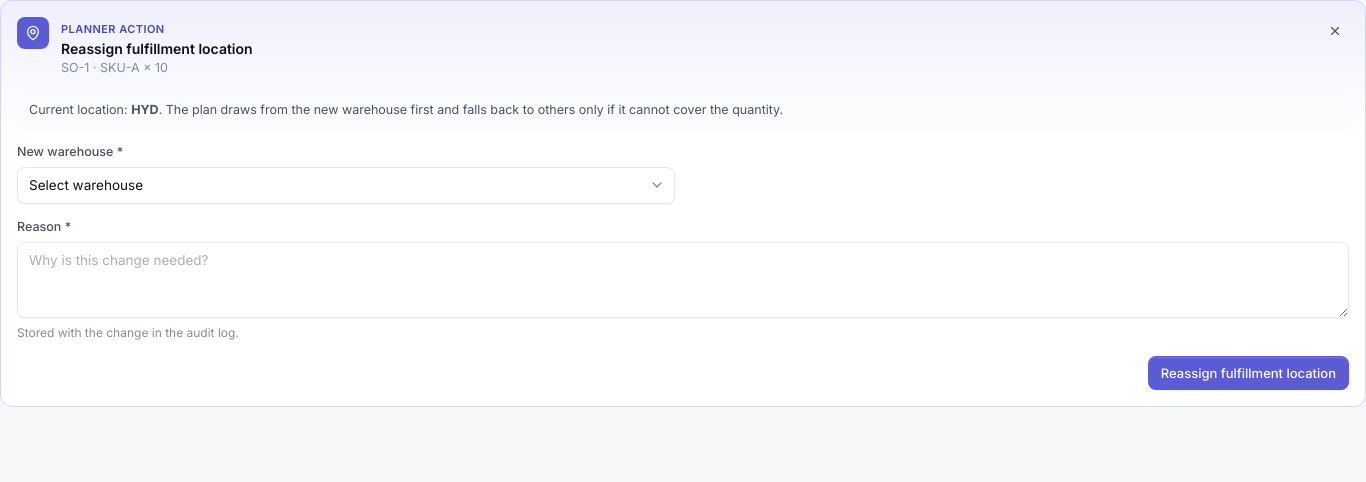
it: OrderPlannerPanel › requires a reason before sending a planner action
The width and height of the screenshot is (1366, 482).
Select "CHN — CHN warehouse" in the dropdown labelled "New warehouse *" at (346, 185), box [17, 167, 675, 204]
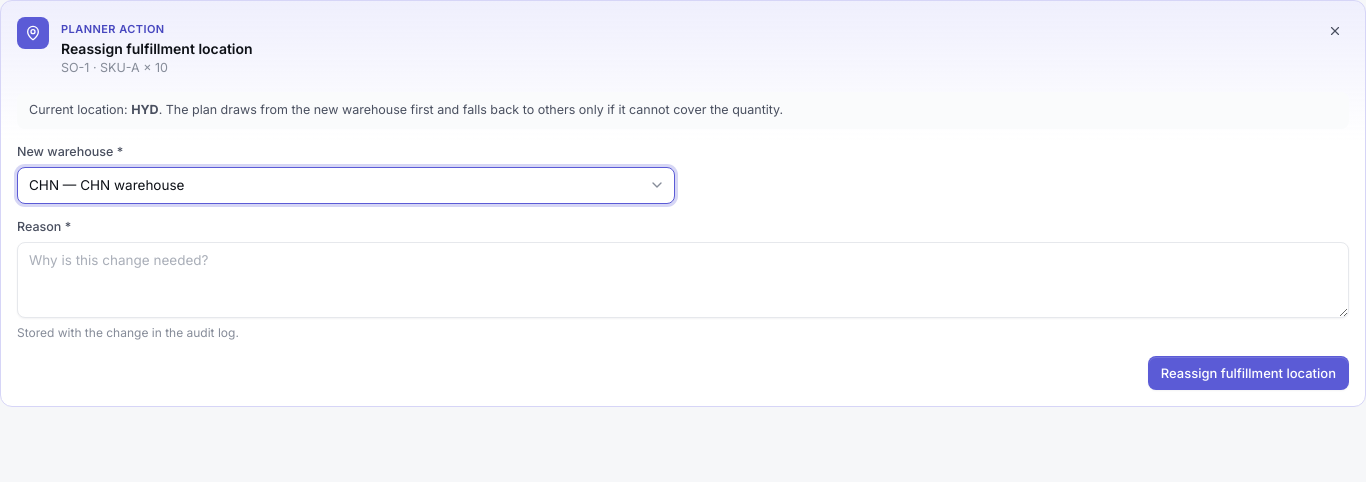
Bypass the browser's required check to exercise our own validation.
Type "ab" into the text box labelled "Reason * Stored with the change in the audit log." at (683, 280), box [17, 242, 1349, 318]
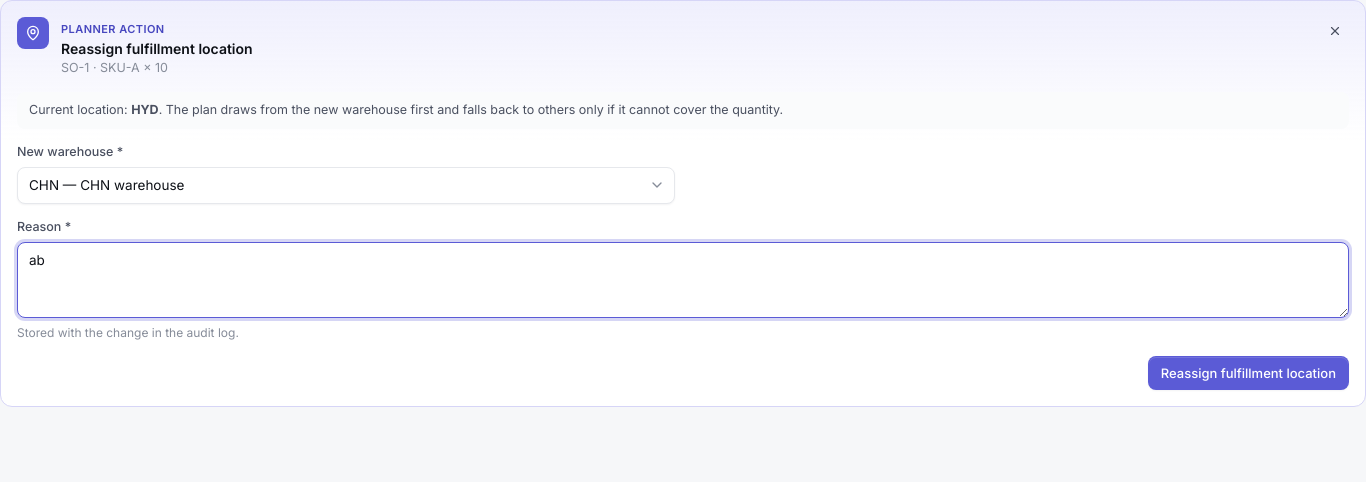
Click the button "Reassign fulfillment location" at (1248, 373), box [1148, 356, 1349, 390]
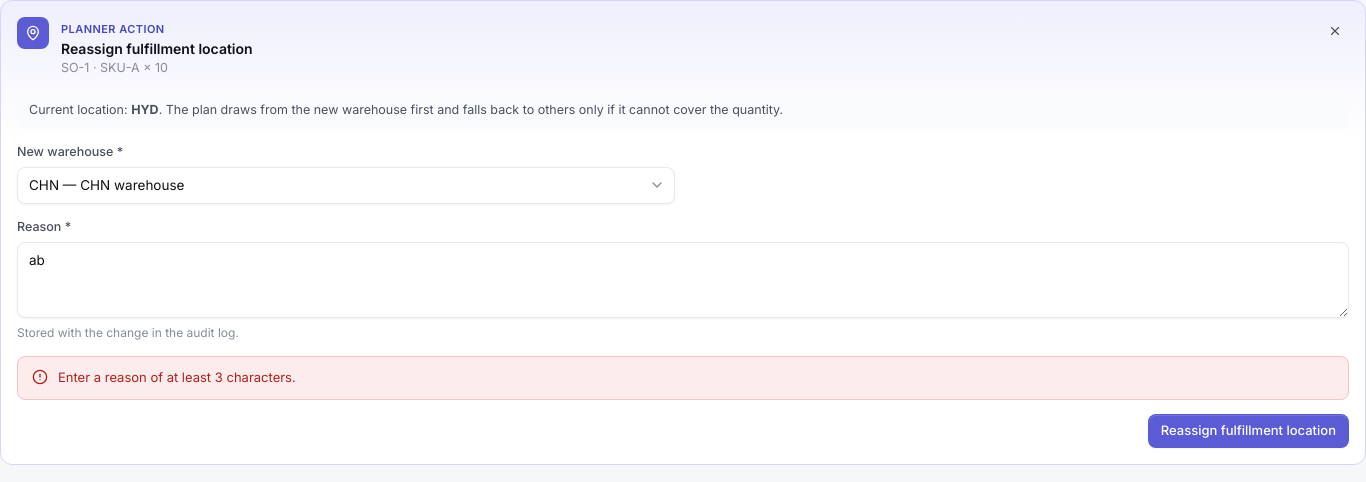
Expected: the text "Enter a reason of at least 3 characters." is shown, [58, 369, 296, 385]
